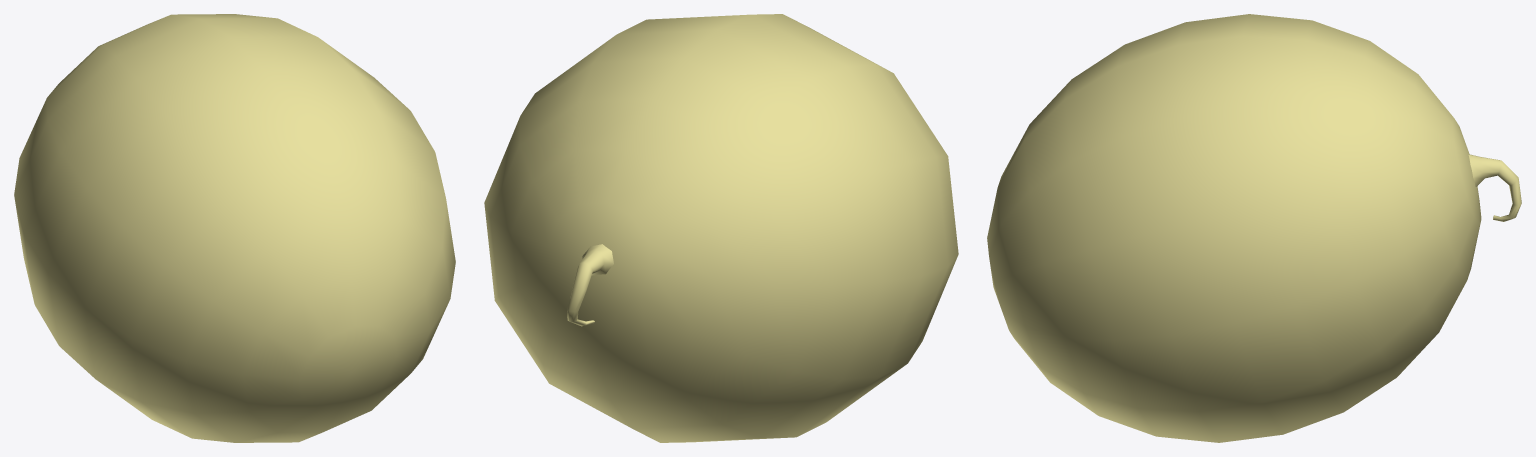
File: Melon_lod0.fbx
The picture shows the model from 3 angles, left to right: view 1: azimuth 30°, elevation 25°; view 2: azimuth 150°, elevation 25°; view 3: azimuth 270°, elevation 25°; orthographic projection. The views are drawn at different scales.
Visible parts, largest first — view 1: melon1; view 2: melon1, tail; view 3: melon1, tail.
Boxes of the visible parts, x1,y1,x2,y2 form: melon1: [14, 14, 455, 442]; melon1: [484, 14, 958, 442]; tail: [567, 244, 613, 326]; melon1: [987, 14, 1481, 442]; tail: [1468, 154, 1521, 221].
Size of the model in its own units: 22.11 by 21.2 by 26.72.
